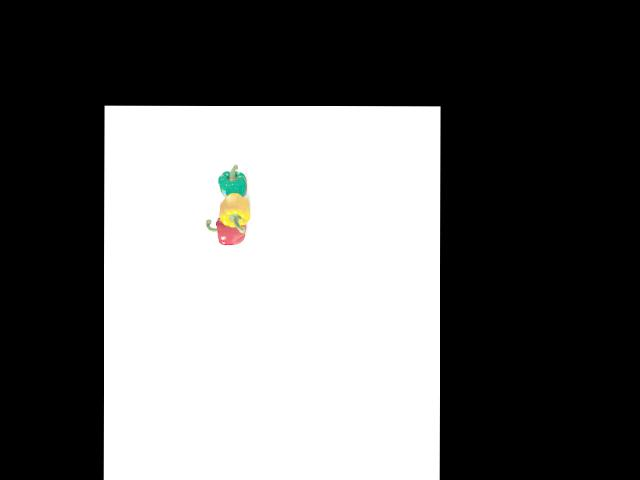bell_pepper: (215, 165, 250, 201)
